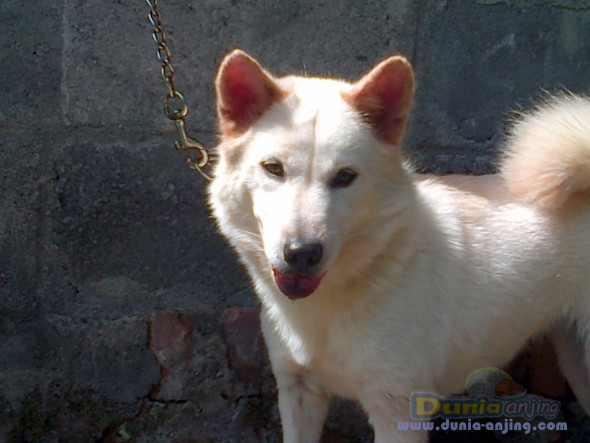kintamani: (199, 56, 418, 305)
